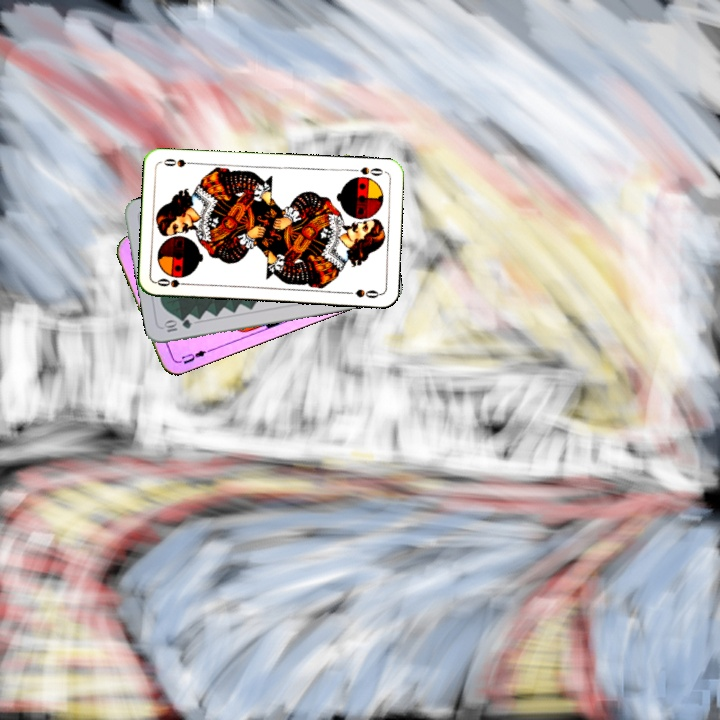EU: (173, 345, 213, 367)
G10: (160, 315, 194, 335)
SO: (153, 273, 193, 290), (347, 163, 385, 179)
